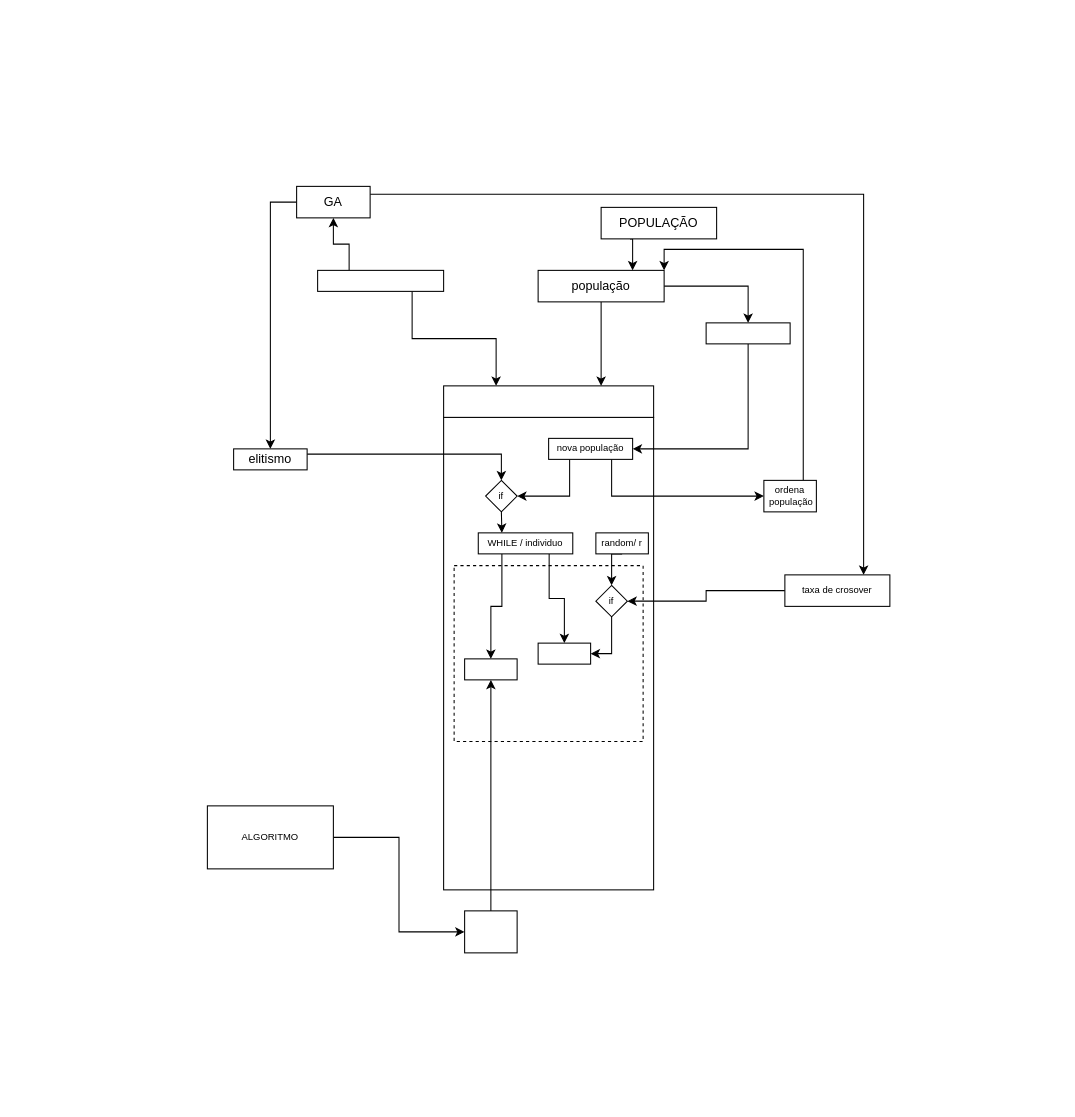
This 1075x1117 diagram has some shape labels left out. Each missing label, with the centre of its shape:
"algoritmo nova geração" goes at (x=548, y=401).
"FILHOS" goes at (x=564, y=653).
"GA NOVA GERAÇÃO" goes at (x=380, y=280).
"METODO/ seleção torneio" goes at (x=490, y=931).
"PAIS" goes at (x=490, y=669).
"tampop" goes at (x=747, y=333).
